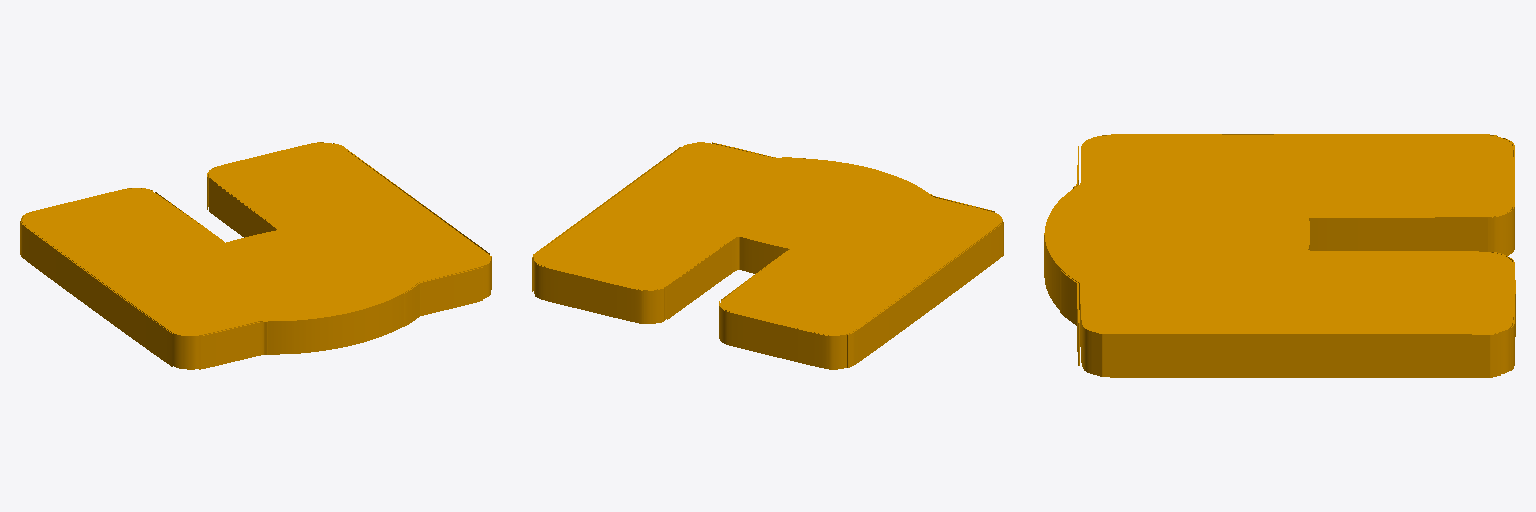
URDF robot description (i6.urdf):
<?xml version="1.0" encoding="utf-8"?>
<robot name="i6.urdf">
  <link name="baseLink">
    <contact>
      <lateral_friction value="0.5"/>
      <rolling_friction value="0.001"/>
      <spinning_friction value="0.001"/>
    </contact>
    <inertial>
      <origin rpy="0 0 0" xyz="0 0 0"/>
      <mass value="0.07"/>
      <inertia ixx="1" ixy="0" ixz="0" iyy="1" iyz="0" izz="1"/>
    </inertial>
    <visual>
      <origin rpy="0 0 0" xyz="0 0 0"/>
      <geometry>
        <mesh filename="i6.obj" scale="0.2 0.2 0.1"/> <!-- Scale x and y by 3.5, z by 1.0 -->
      </geometry>
    </visual>
    <collision>
      <origin rpy="0 0 0" xyz="0 0 0"/>
      <geometry>
        <mesh filename="i6.obj" scale="0.2 0.2 0.1"/> <!-- Scale x and y by 3.5, z by 1.0 -->
      </geometry>
    </collision>
  </link>
</robot>

--- Facts derived from the render (not from the file) ---
The picture shows the robot from 3 angles, left to right: view 1: azimuth 30°, elevation 25°; view 2: azimuth 150°, elevation 25°; view 3: azimuth 270°, elevation 25°; orthographic projection.
Model i6.urdf with 1 links and 0 joints (none), rooted at baseLink, posed all joints at 0.
Links seen in each view (by area): view 1: baseLink; view 2: baseLink; view 3: baseLink.
Link boxes in pixels (x1,y1,x2,y2): baseLink: [20, 142, 491, 369]; baseLink: [532, 142, 1003, 369]; baseLink: [1044, 134, 1515, 377].
Size in the robot's own frame: 0.398 by 0.3932 by 0.0394 metres.
1 mesh visuals loaded from 1 distinct referenced files (1 OBJ).